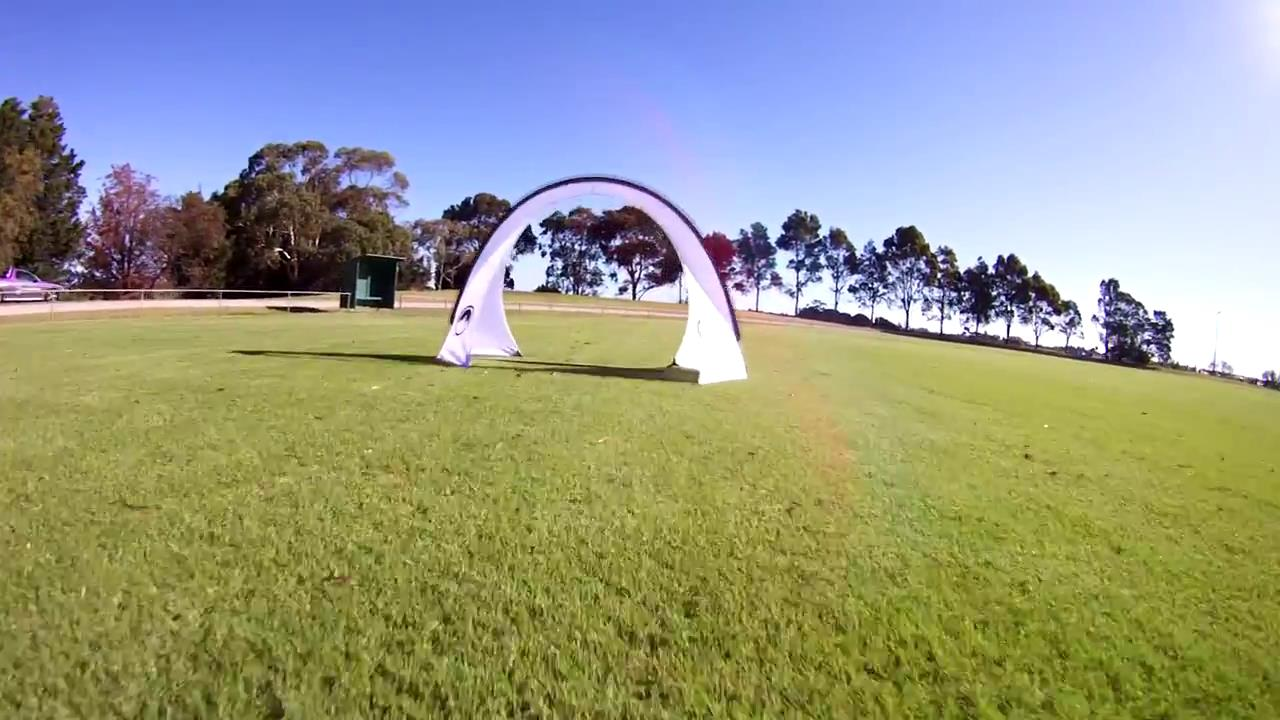gate: (429, 172, 754, 385)
